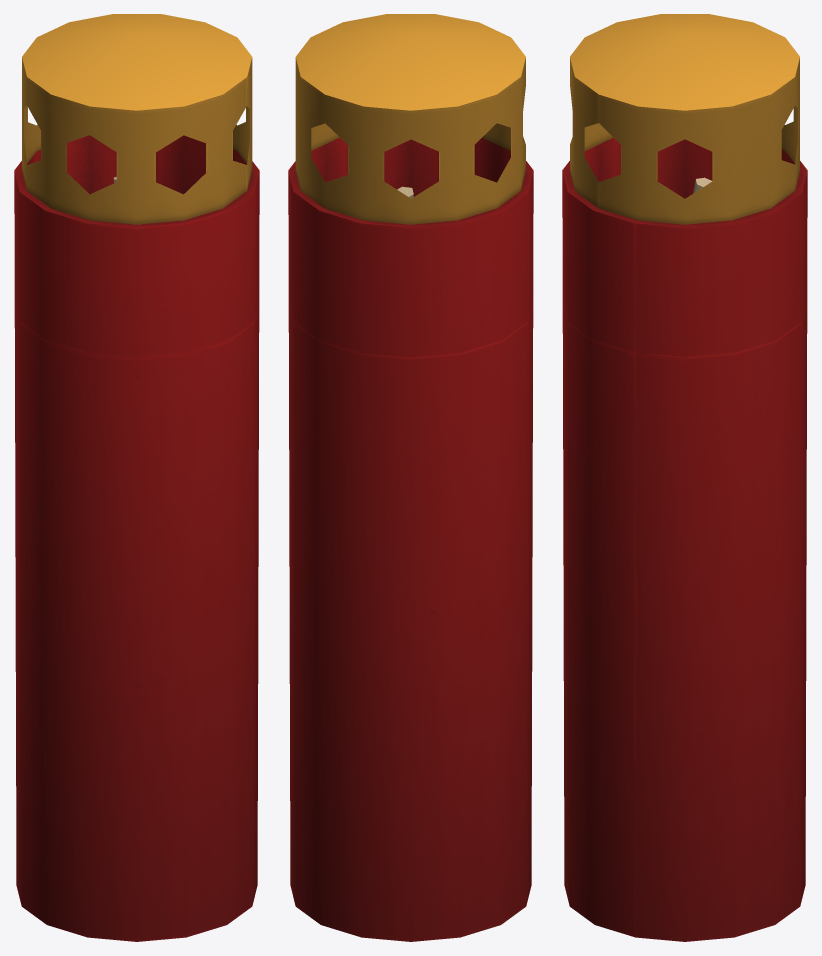
Rendered from HW_CandleRed.fbx.
The picture shows the model from 3 angles, left to right: view 1: azimuth 30°, elevation 25°; view 2: azimuth 150°, elevation 25°; view 3: azimuth 270°, elevation 25°; orthographic projection.
Visible parts, largest first — view 1: HW_CandleRed; view 2: HW_CandleRed; view 3: HW_CandleRed.
Boxes of the visible parts, x1,y1,x2,y2 form: HW_CandleRed: (14, 14, 259, 941); HW_CandleRed: (288, 14, 533, 941); HW_CandleRed: (562, 14, 807, 941).
Bounding box in the file's own units: 0.0879 × 0.3401 × 0.0884.
1 material, 1 textured.
